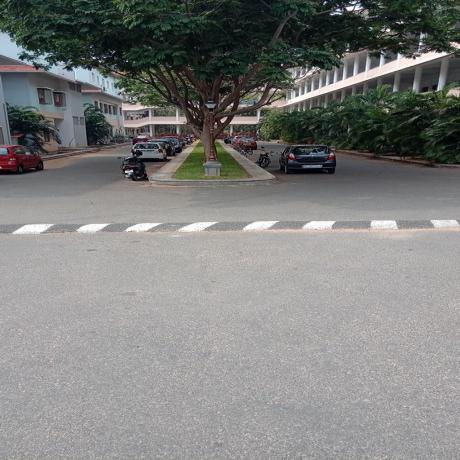Speed Bump: (2, 219, 459, 236)
